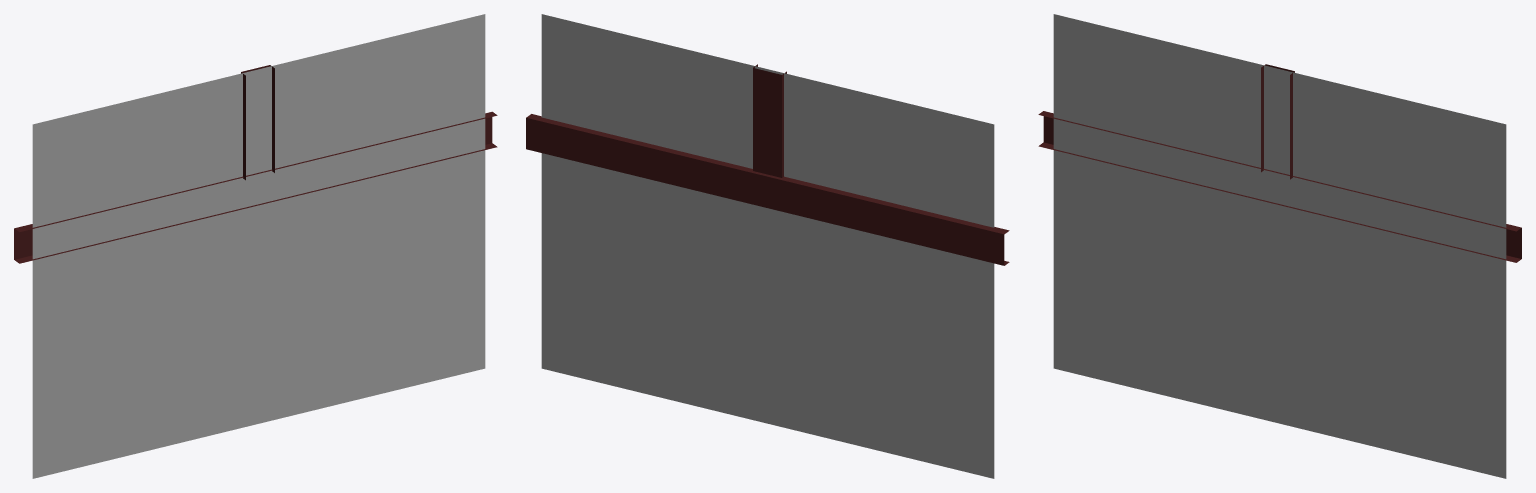
The model's file is Window1.fbx.
The picture shows the model from 3 angles, left to right: view 1: azimuth 30°, elevation 25°; view 2: azimuth 150°, elevation 25°; view 3: azimuth 330°, elevation 25°; orthographic projection.
Visible parts, largest first — view 1: pCube16; view 2: pCube16; view 3: pCube16.
Boxes of the visible parts, box(x1,y1,x2,y2) form: pCube16: box(14, 14, 497, 478); pCube16: box(526, 14, 1009, 478); pCube16: box(1038, 14, 1521, 478).
Bounding box in the file's own units: 1.41 × 1 × 0.0368.
